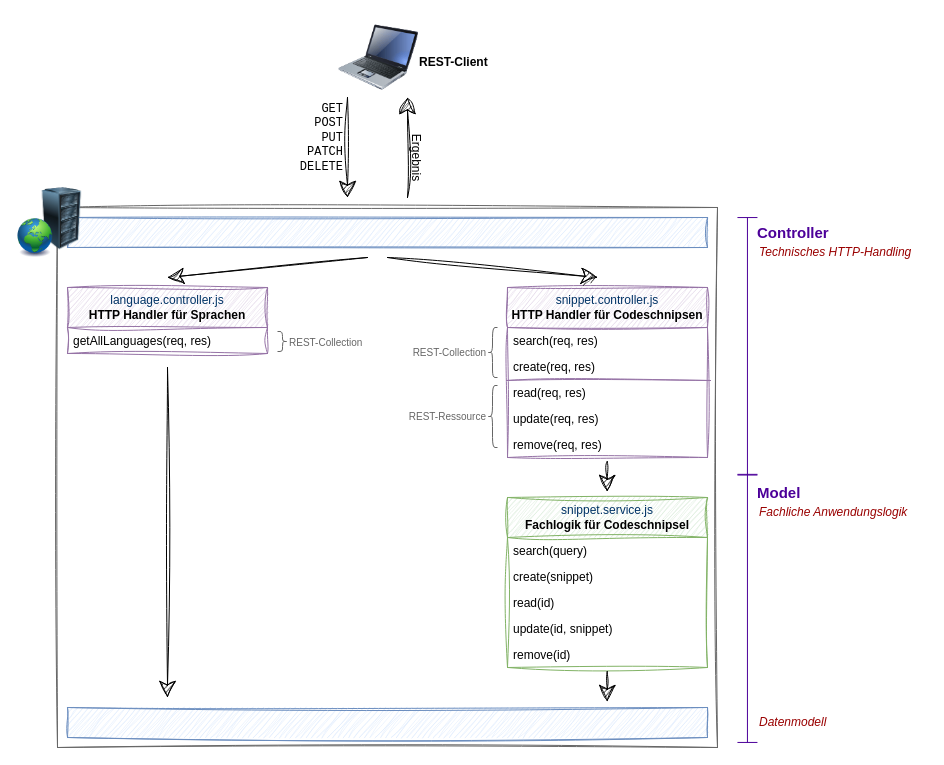
The diagram is 944 pixels wide and 765 high, and some of its shapes have lost their labels. The centre of each missing label's shape, as x and y in pixels:
database.js Eingebettete JSON-Datenbank: [387,722]
main.js Express App Router: [387,232]
